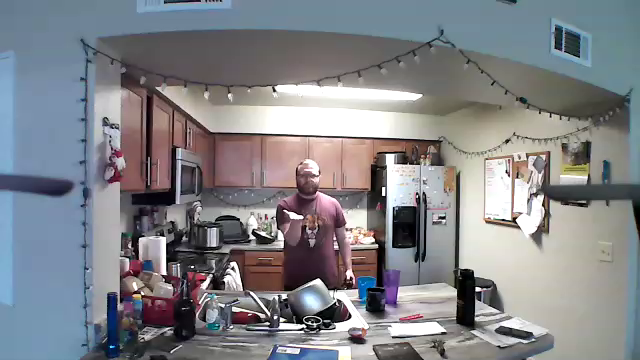land: (279, 204, 306, 222)
